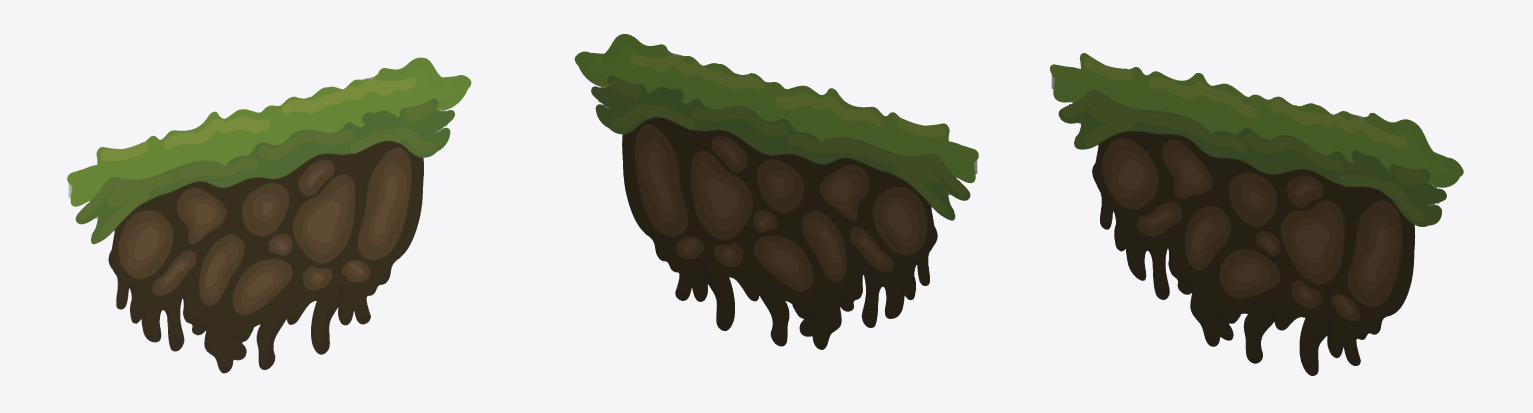
File: GroundFloat.fbx
The picture shows the model from 3 angles, left to right: view 1: azimuth 30°, elevation 25°; view 2: azimuth 150°, elevation 25°; view 3: azimuth 330°, elevation 25°; orthographic projection. The views are drawn at different scales.
Visible parts, largest first — view 1: pCube1; view 2: pCube1; view 3: pCube1.
Boxes of the visible parts, x1,y1,x2,y2 form: pCube1: (67,57,471,373); pCube1: (574,34,978,349); pCube1: (1050,53,1463,375).
Size of the model in its own units: 8.03 by 5.19 by 1.
1 material, 1 textured.
